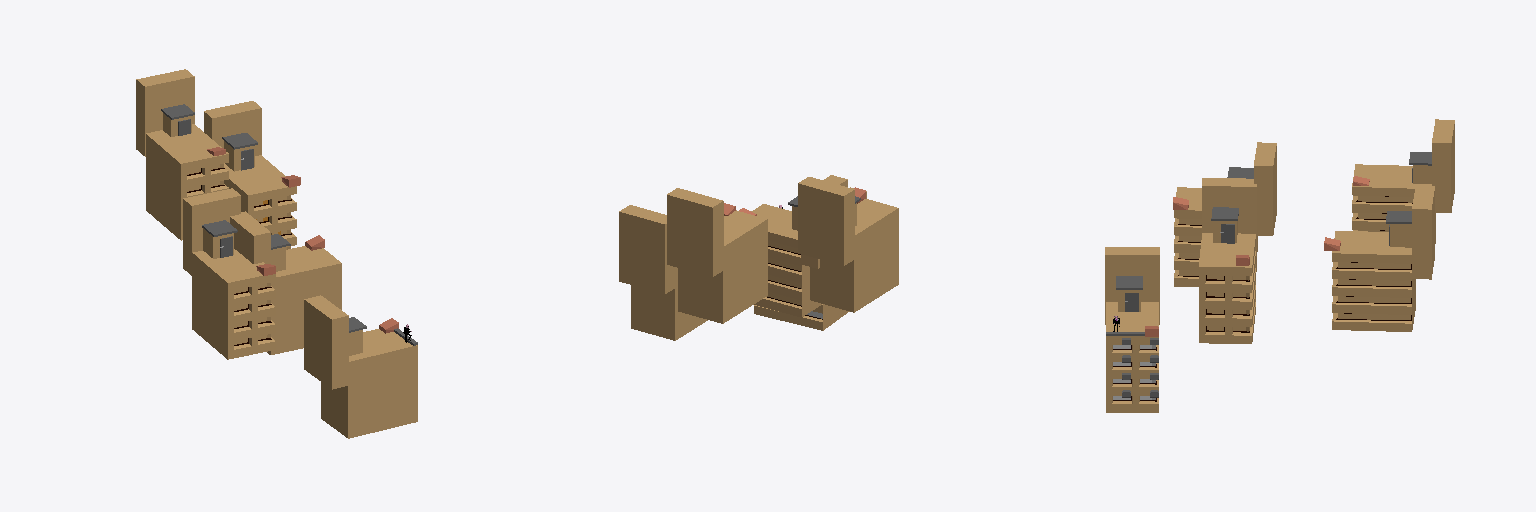
3 views of the same model, side by side, from view 1: azimuth 30°, elevation 25°; view 2: azimuth 150°, elevation 25°; view 3: azimuth 270°, elevation 25° (orthographic).
Parts seen in each view (by area): view 1: 立方体.022, 立方体.012, 立方体.036, 立方体.029, 立方体.017, 立方体.043, 立方体.040, 立方体.026, 立方体.047, 立方体.033; view 2: 立方体.036, 立方体.022, 立方体.026, 立方体.040, 立方体.047, 立方体.029, 立方体.043, 立方体.012; view 3: 立方体.043, 立方体.029, 立方体.012, 立方体.036, 立方体.022, 立方体.017, 立方体.033, 立方体.047, 立方体.040, 立方体.026, 立方体.018.
Part boxes in pixels (x1,y1,x2,y2): 立方体.022: (192,249,275,359); 立方体.012: (321,329,417,438); 立方体.036: (146,124,228,240); 立方体.029: (267,246,341,354); 立方体.017: (304,295,348,389); 立方体.043: (224,155,296,249); 立方体.040: (136,69,194,156); 立方体.026: (183,188,240,275); 立方体.047: (204,101,261,155); 立方体.033: (230,211,270,263); 立方体.036: (678,210,767,323); 立方体.022: (810,199,898,312); 立方体.026: (798,177,854,265); 立方体.040: (667,188,723,277); 立方体.047: (619,205,675,293); 立方体.029: (751,204,821,317); 立方体.043: (631,267,707,340); 立方体.012: (754,304,849,330); 立方体.043: (1332,231,1415,331); 立方体.029: (1199,233,1255,343); 立方体.012: (1106,302,1158,412); 立方体.036: (1352,164,1435,243); 立方体.022: (1174,187,1256,286); 立方体.017: (1105,247,1159,324); 立方体.033: (1202,178,1257,256); 立方体.047: (1412,186,1434,279); 立方体.040: (1432,119,1454,212); 立方体.026: (1254,142,1276,235); 立方体.018: (1122,338,1158,397).
Size of the model in its own units: 66.23 by 95.68 by 126.